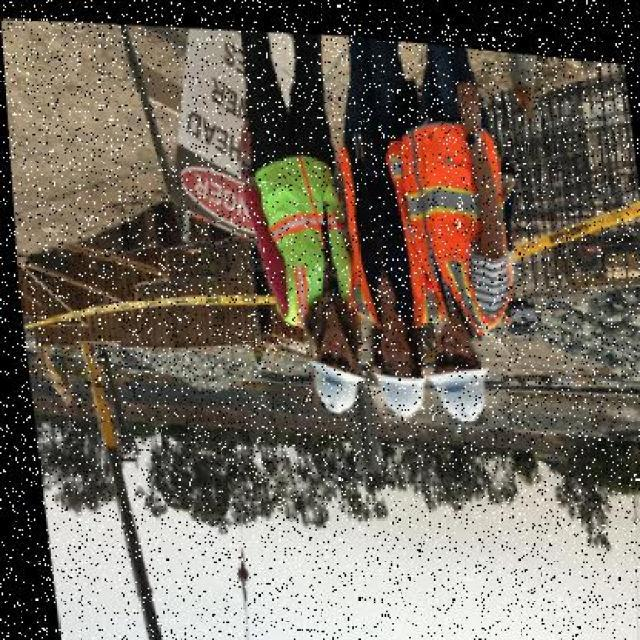helmet: (420, 337, 496, 425), (355, 335, 429, 421), (295, 339, 361, 418)
vest: (389, 111, 512, 325), (320, 129, 434, 317), (240, 135, 351, 327)
